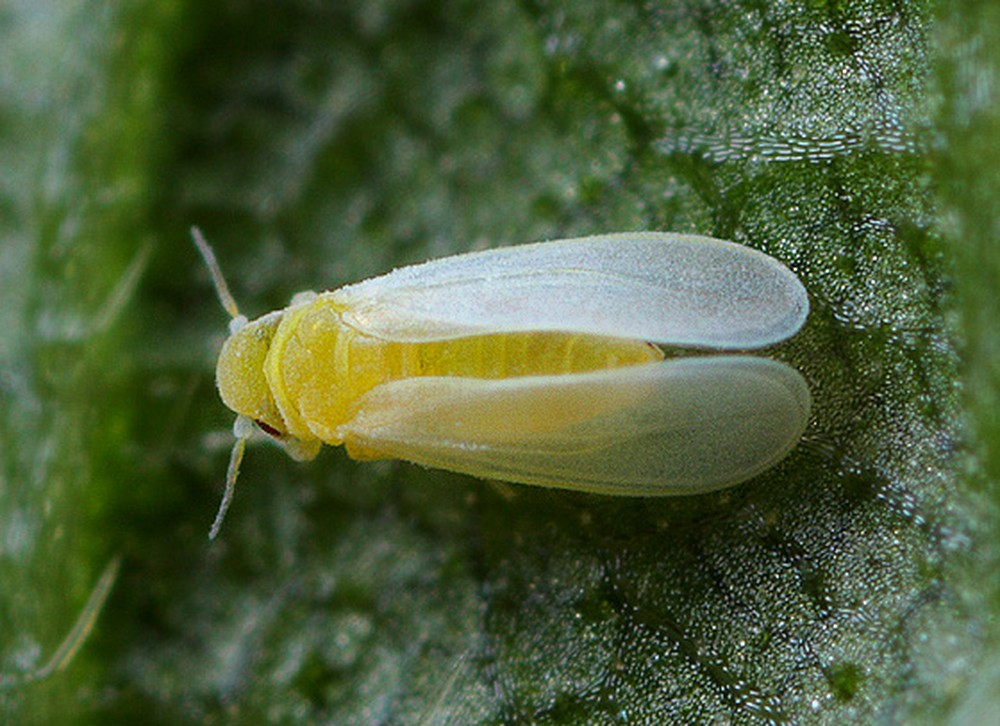Mosca Blanca: (155, 203, 816, 557)
